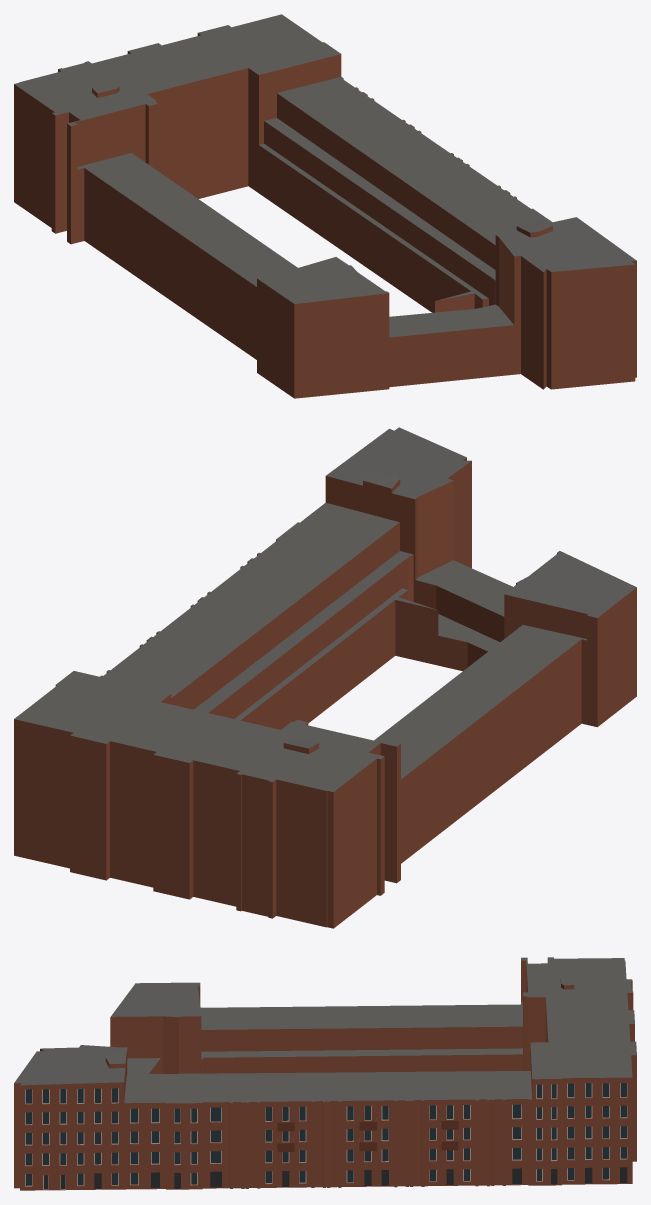
The model's file is recipe-large-akbarstraat-165-217-253686.glb.
3 renders of one model, top to bottom at view 1: azimuth 30°, elevation 25°; view 2: azimuth 150°, elevation 25°; view 3: azimuth 270°, elevation 25°, orthographic. The views are drawn at different scales.
Parts seen in each view (by area): view 1: akbarstraat-165-217-253686; view 2: akbarstraat-165-217-253686; view 3: akbarstraat-165-217-253686.
Boxes of the visible parts, x1=… form: akbarstraat-165-217-253686: x1=14, y1=14, x2=636, y2=398; akbarstraat-165-217-253686: x1=14, y1=427, x2=636, y2=928; akbarstraat-165-217-253686: x1=14, y1=957, x2=636, y2=1190.
Bounding box in the file's own units: 40.37 × 16.35 × 82.75.
